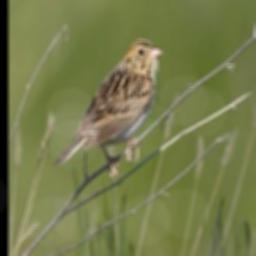Sparrow: (52, 38, 165, 179)
